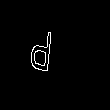P_S: (42, 27, 68, 83)
